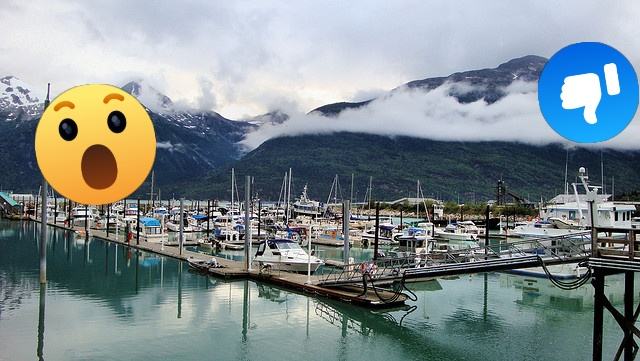like: (538, 42, 639, 143)
wow: (35, 84, 156, 205)
